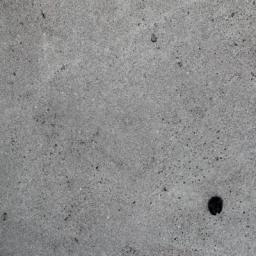FOD: (208, 194, 227, 219)
